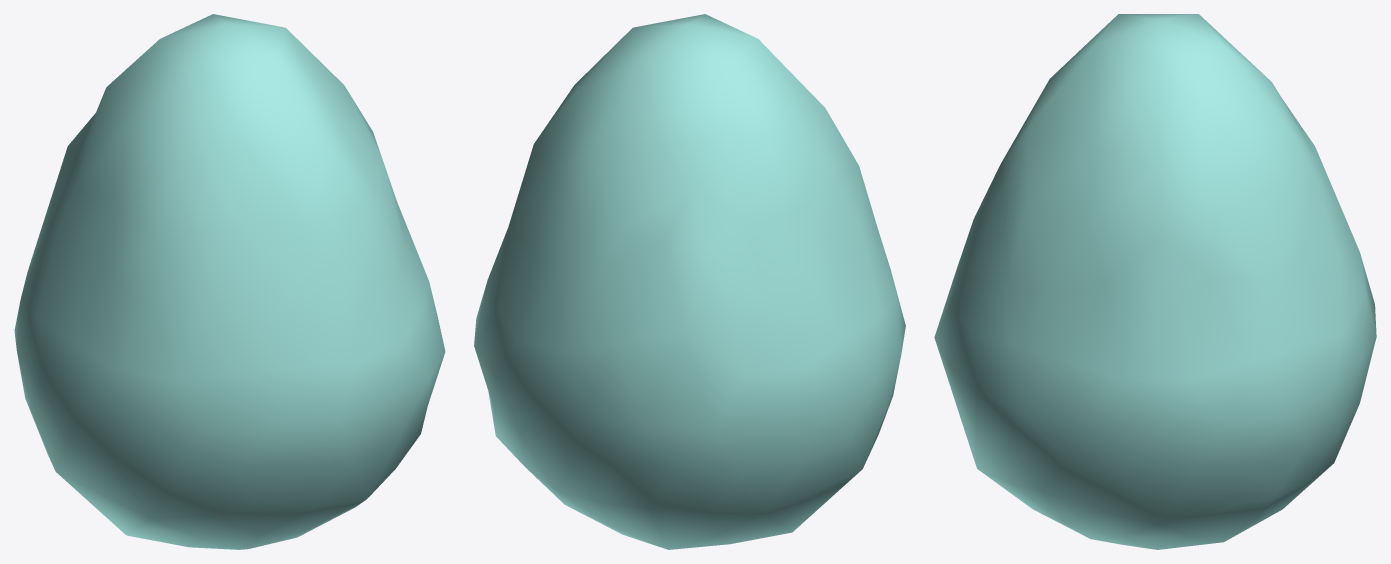
The model's file is EggModel.fbx.
3 views of the same model, side by side, from view 1: azimuth 30°, elevation 25°; view 2: azimuth 150°, elevation 25°; view 3: azimuth 270°, elevation 25° (orthographic).
Parts seen in each view (by area): view 1: Egg; view 2: Egg; view 3: Egg.
Part boxes in pixels (x1,y1,x2,y2): Egg: (14,14,445,549); Egg: (474,14,905,549); Egg: (934,14,1376,549).
Size of the model in its own units: 207 by 269 by 209.
